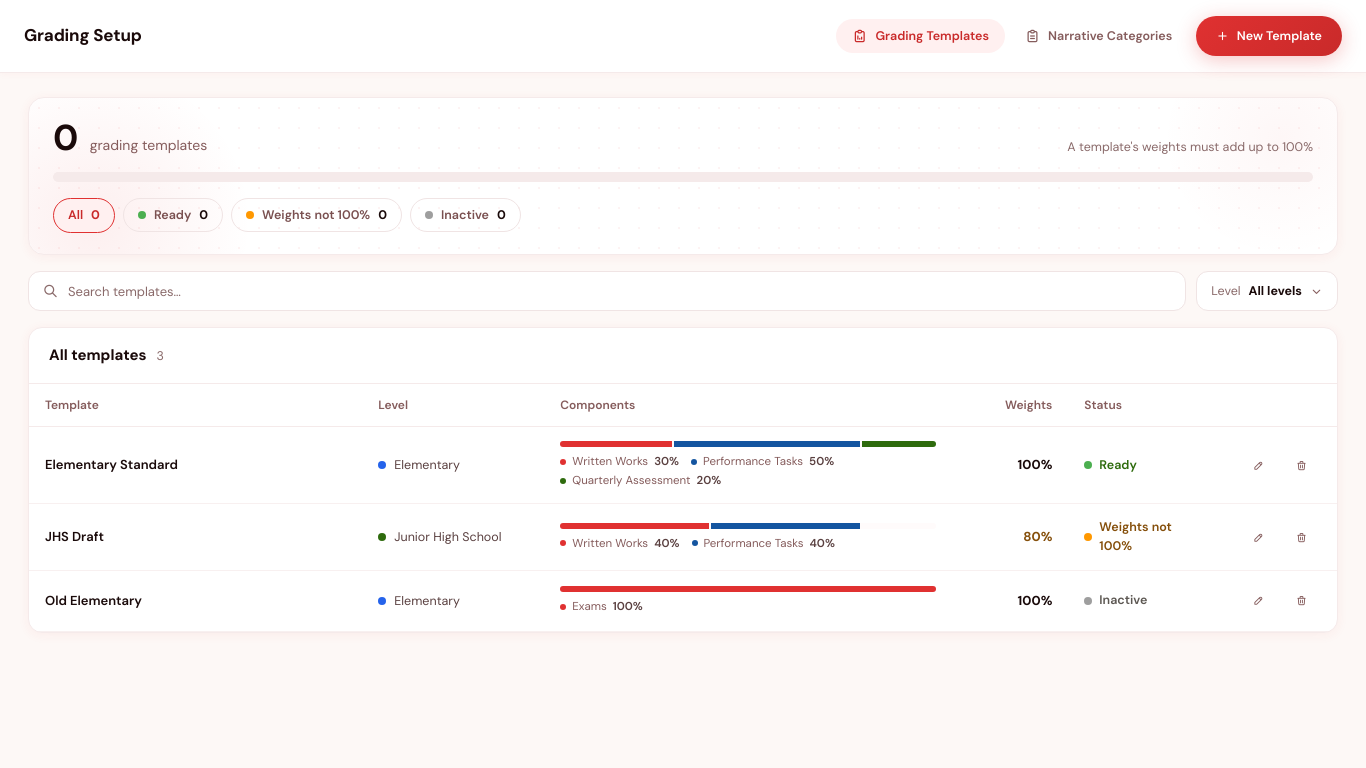
Test case: Grading setup — templates › says which templates can grade, and filters by it
This screenshot has width=1366, height=768.
Expected: the text "Elementary Standard" is shown, [45, 456, 178, 473]
Expected: the button with aria-label "All 3" is shown, [53, 198, 115, 232]
Click the button with aria-label "Weights not 100% 1".
click(317, 215)  # box [231, 198, 402, 232]
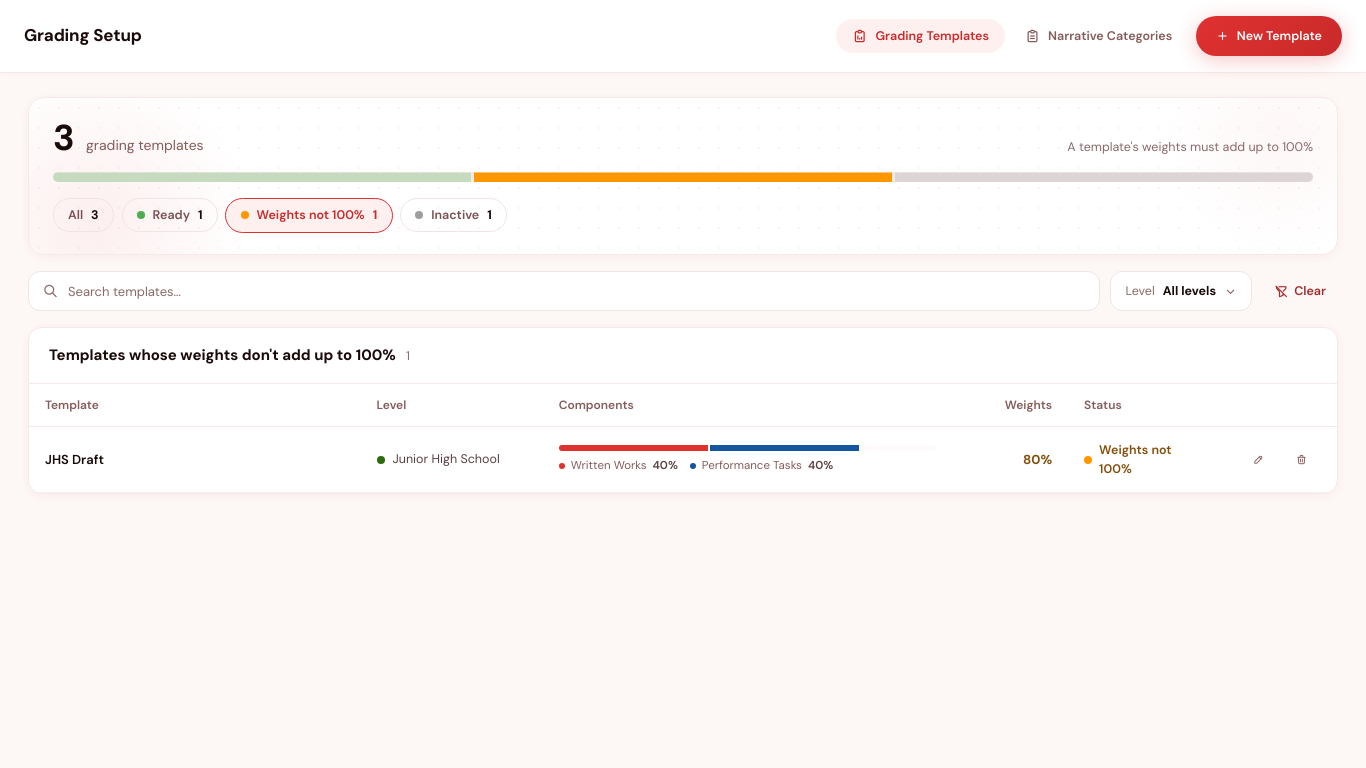
Expected: the text "80%" is shown, [1023, 451, 1052, 468]
Result: the button "Elementary Standard" is gone
